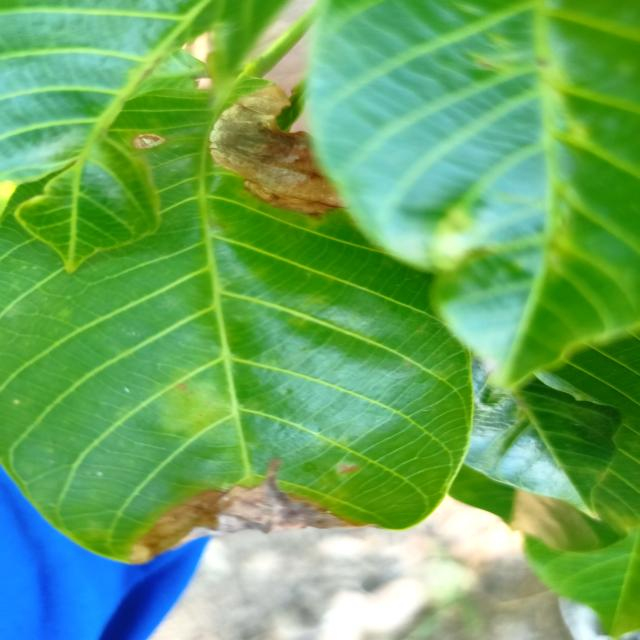Leaf-Blight: (124, 459, 375, 564), (210, 84, 342, 220), (132, 133, 165, 149)
